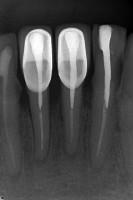Furcation Involvement: (7, 169, 23, 185), (34, 155, 47, 167), (66, 150, 78, 160)
